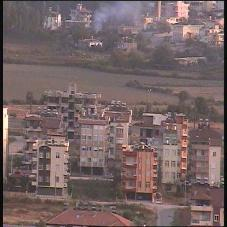smoke: (97, 3, 142, 23)
